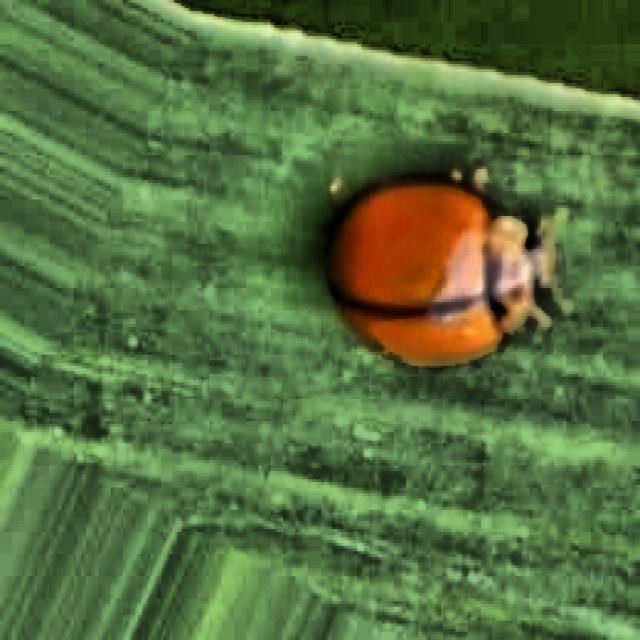Ladybug: (304, 128, 583, 409)
